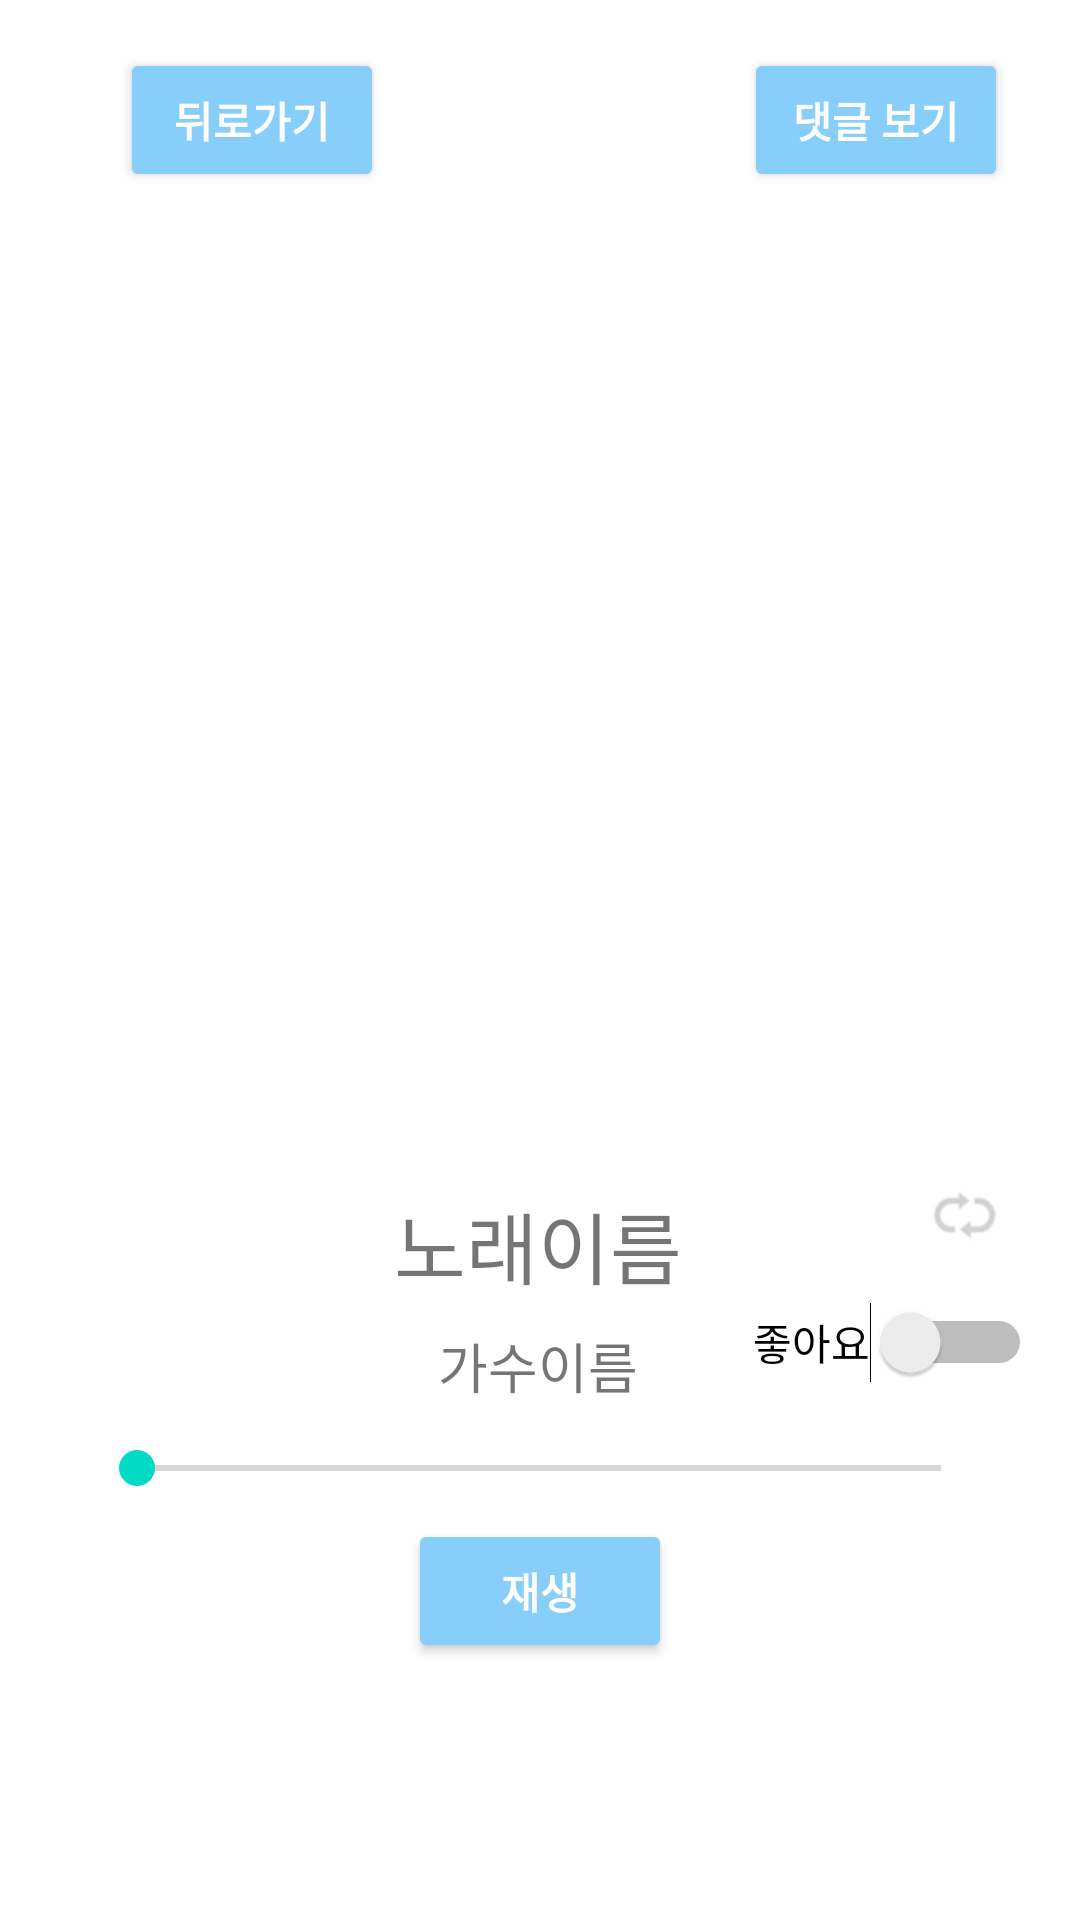

Named icons in this screenshot (1080*1920) and their bounding boxes, (x1, y1, x2, y2):
repeat no: (934, 1193, 995, 1237)
